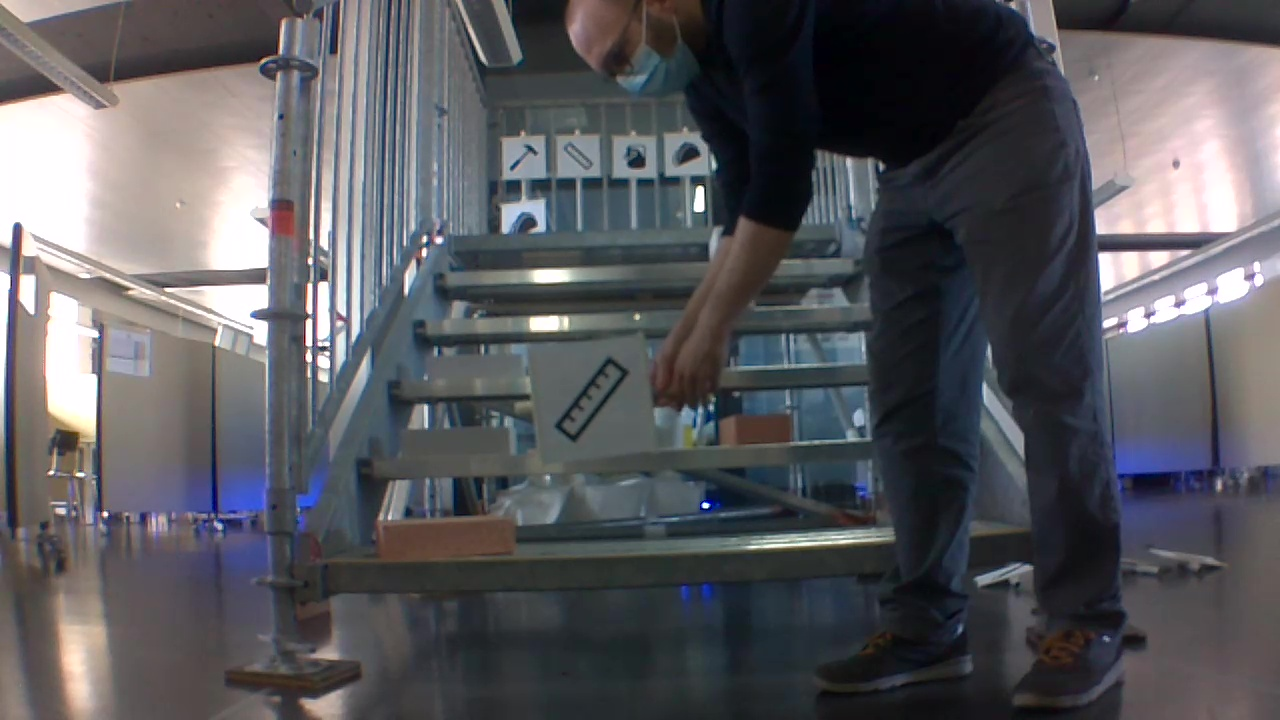brick: (373, 510, 519, 560), (405, 426, 512, 453), (723, 411, 795, 442), (432, 351, 523, 374)
bucket: (621, 141, 652, 171)
hammer: (508, 141, 542, 173)
ruler: (551, 357, 633, 443), (565, 143, 598, 172)
taco: (509, 205, 539, 236), (673, 140, 700, 166)
